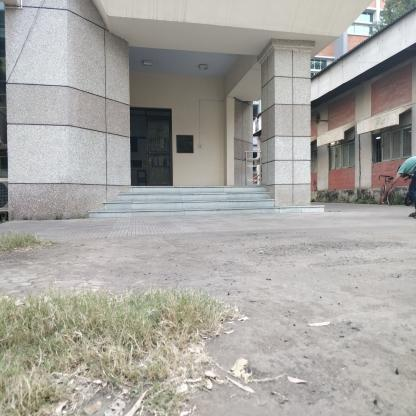stairs: (133, 185, 265, 220)
